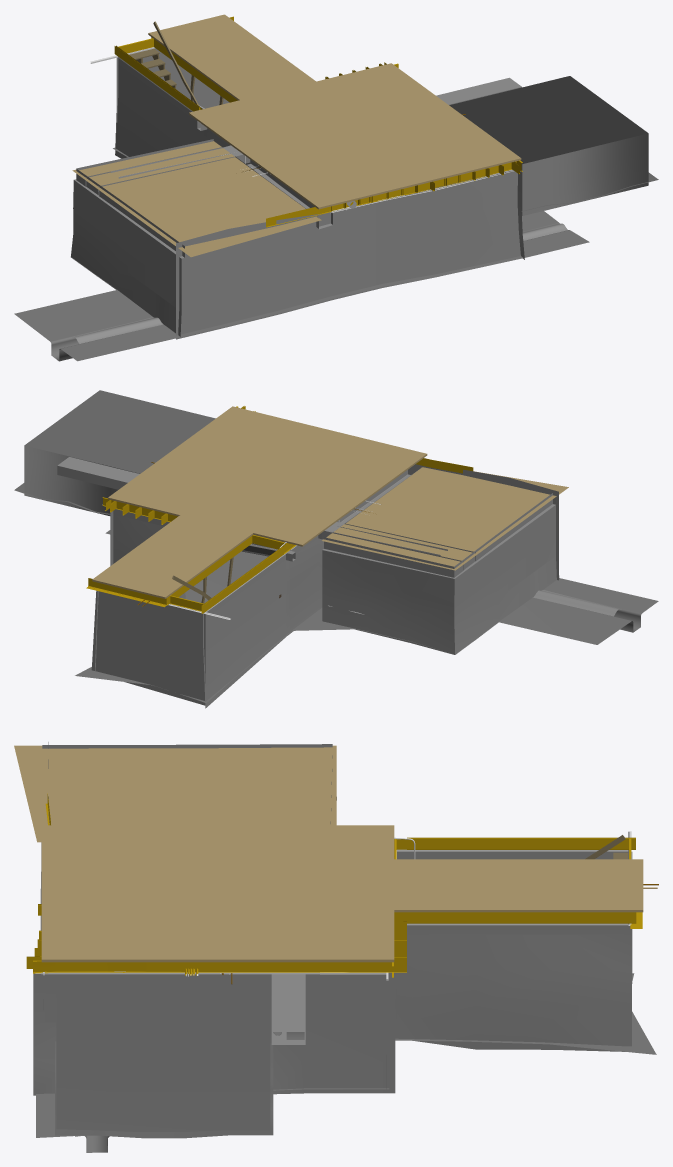
File: geo_basement_noPipes.fbx
3 renders of one model, top to bottom at view 1: azimuth 30°, elevation 25°; view 2: azimuth 150°, elevation 25°; view 3: azimuth 270°, elevation 25°, orthographic. The views are drawn at different scales.
Parts seen in each view (by area): view 1: New_Ceiling, wall_pipes, wall_crawlspace, wall_allleftside, ceiling_sideroom, floor, ceiling_2x9s, wall_back; view 2: wall_allleftside, New_Ceiling, wall_crawlspace, ceiling_sideroom, wall_back, floor, ceiling_2x9s, wall_corner, wall_pipes; view 3: New_Ceiling, wall_crawlspace, wall_corner, ceiling_sideroom, ceiling_2x9s, wall_allleftside, floor, floor_crawlspace, ceiling_2x4white_9.
Part boxes in pixels (x1,y1,x2,y2): New_Ceiling: (148,14,521,209); wall_pipes: (176,169,521,339); wall_crawlspace: (436,76,648,259); wall_allleftside: (71,58,332,343); ceiling_sideroom: (72,141,321,257); floor: (14,147,589,361); ceiling_2x9s: (114,16,522,227); wall_back: (116,48,229,132); wall_allleftside: (203,467,621,708); New_Ceiling: (92,406,427,598); wall_crawlspace: (24,390,215,565); ceiling_sideroom: (322,467,568,570); wall_back: (91,590,205,705); floor: (75,530,658,703); ceiling_2x9s: (86,406,473,613); wall_corner: (95,509,185,671); wall_pipes: (408,464,558,580); New_Ceiling: (41,825,643,962); wall_crawlspace: (33,973,395,1136); wall_corner: (386,925,631,1088); ceiling_sideroom: (14,745,336,842); ceiling_2x9s: (26,793,642,977); wall_allleftside: (42,744,632,983); floor: (36,842,656,1152); floor_crawlspace: (55,1041,273,1138); ceiling_2x4white_9: (407,923,629,925).
Size of the model in its own units: 1685 by 353 by 1181.
